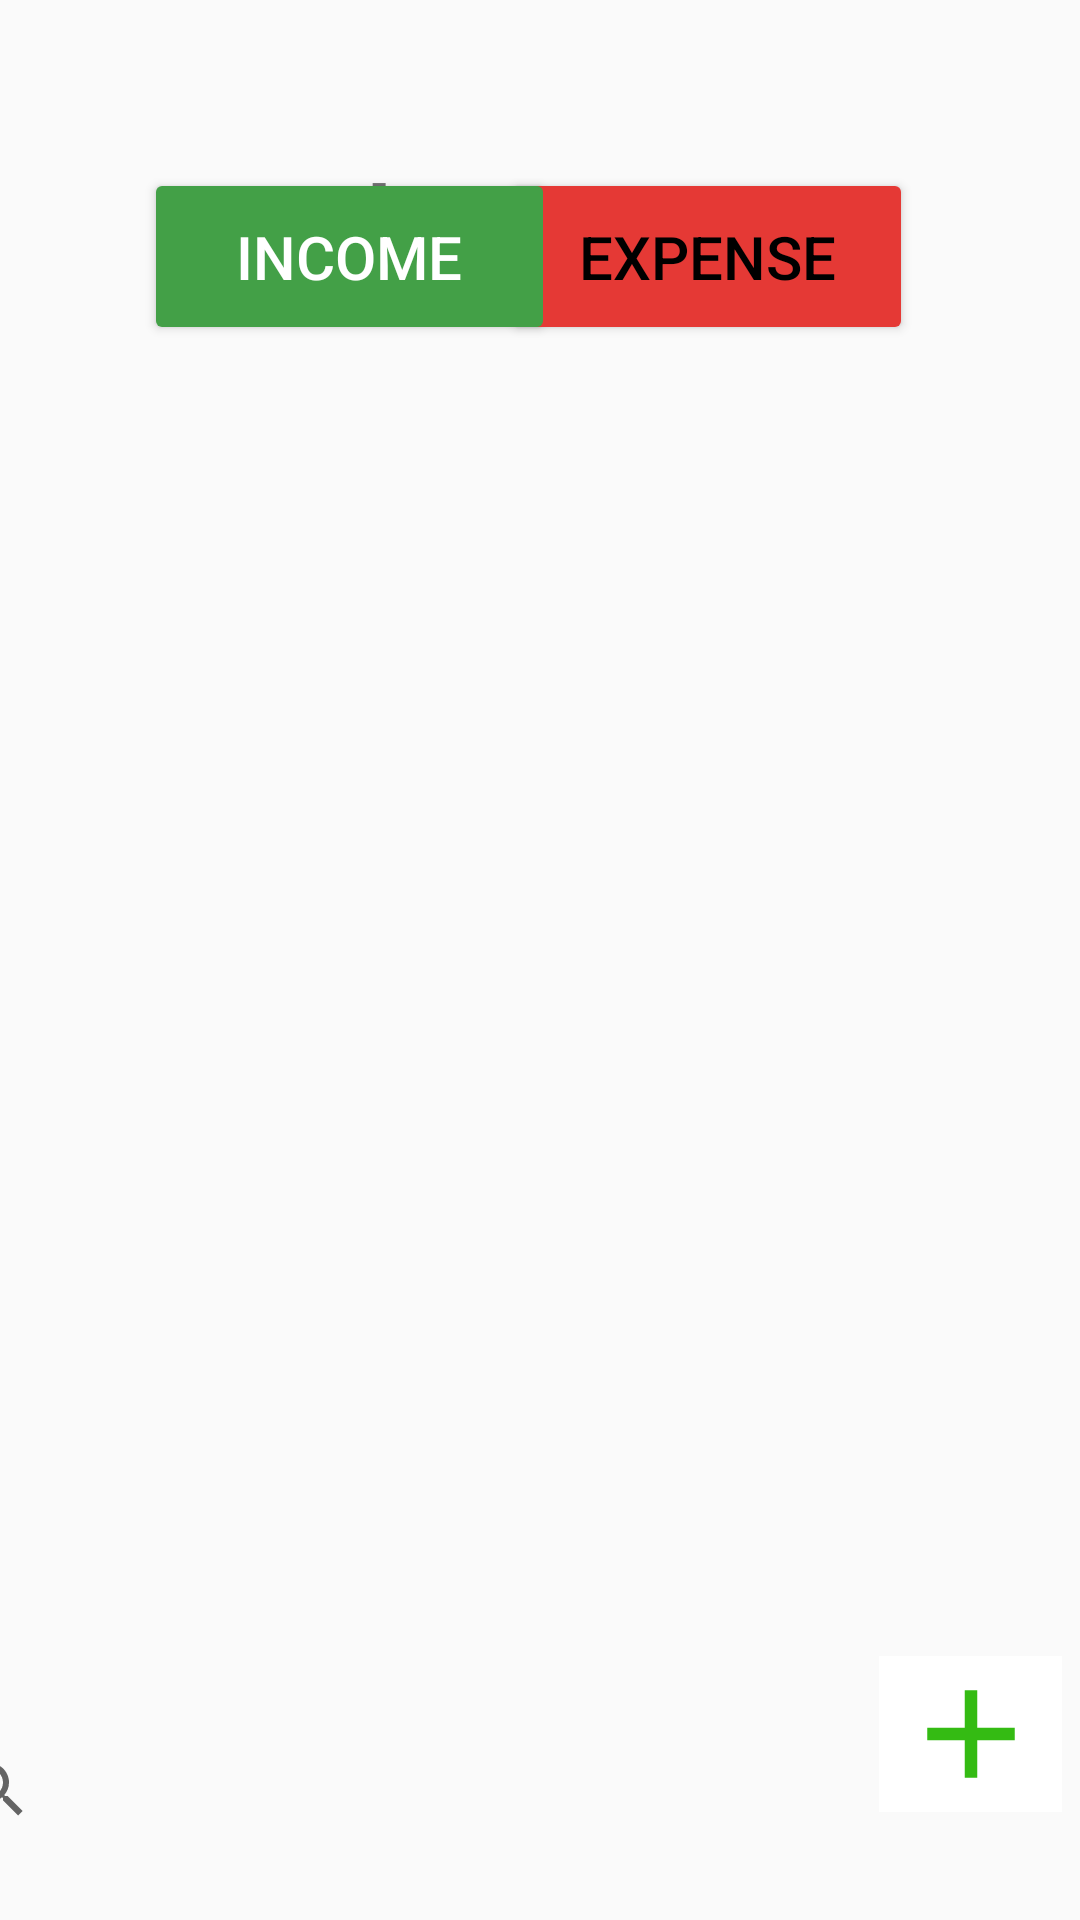

Screen size 1080×1920. Icon name, then its box in pixels as detection(x1, y1, x2, y2):
add: detection(927, 1690, 1015, 1778)
